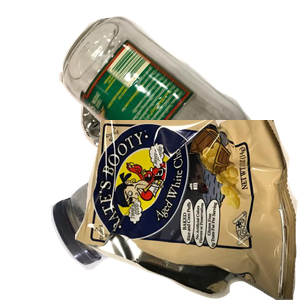glass: (60, 14, 300, 194)
metal: (57, 36, 241, 216)
plastic: (48, 152, 228, 300)
trash: (75, 120, 300, 300)
